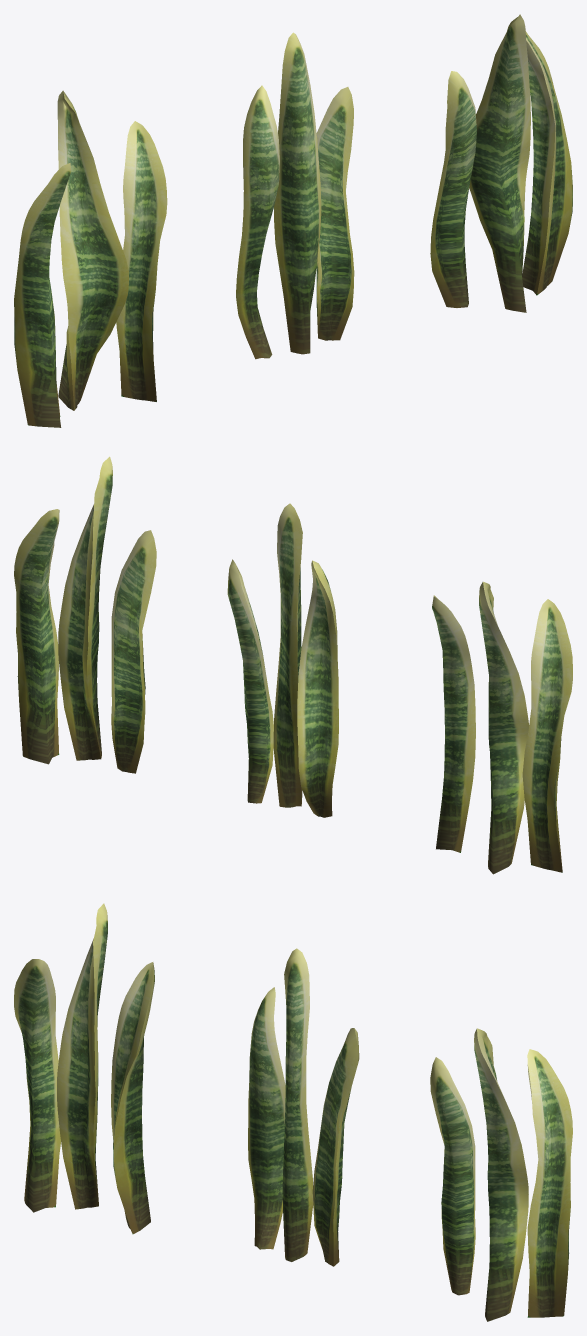
File: D_Plant_012_a.fbx
3 renders of one model, top to bottom at view 1: azimuth 30°, elevation 25°; view 2: azimuth 150°, elevation 25°; view 3: azimuth 330°, elevation 25°, orthographic. The views are drawn at different scales.
Visible parts, largest first — view 1: D_Plant_012_a; view 2: D_Plant_012_a; view 3: D_Plant_012_a.
Part boxes in pixels (<box>): D_Plant_012_a: <box>14,14,572,427</box>; D_Plant_012_a: <box>14,456,572,874</box>; D_Plant_012_a: <box>14,903,572,1321</box>.
Size of the model in its own units: 1.2 by 0.6572 by 0.1631.
1 material, 1 textured.
